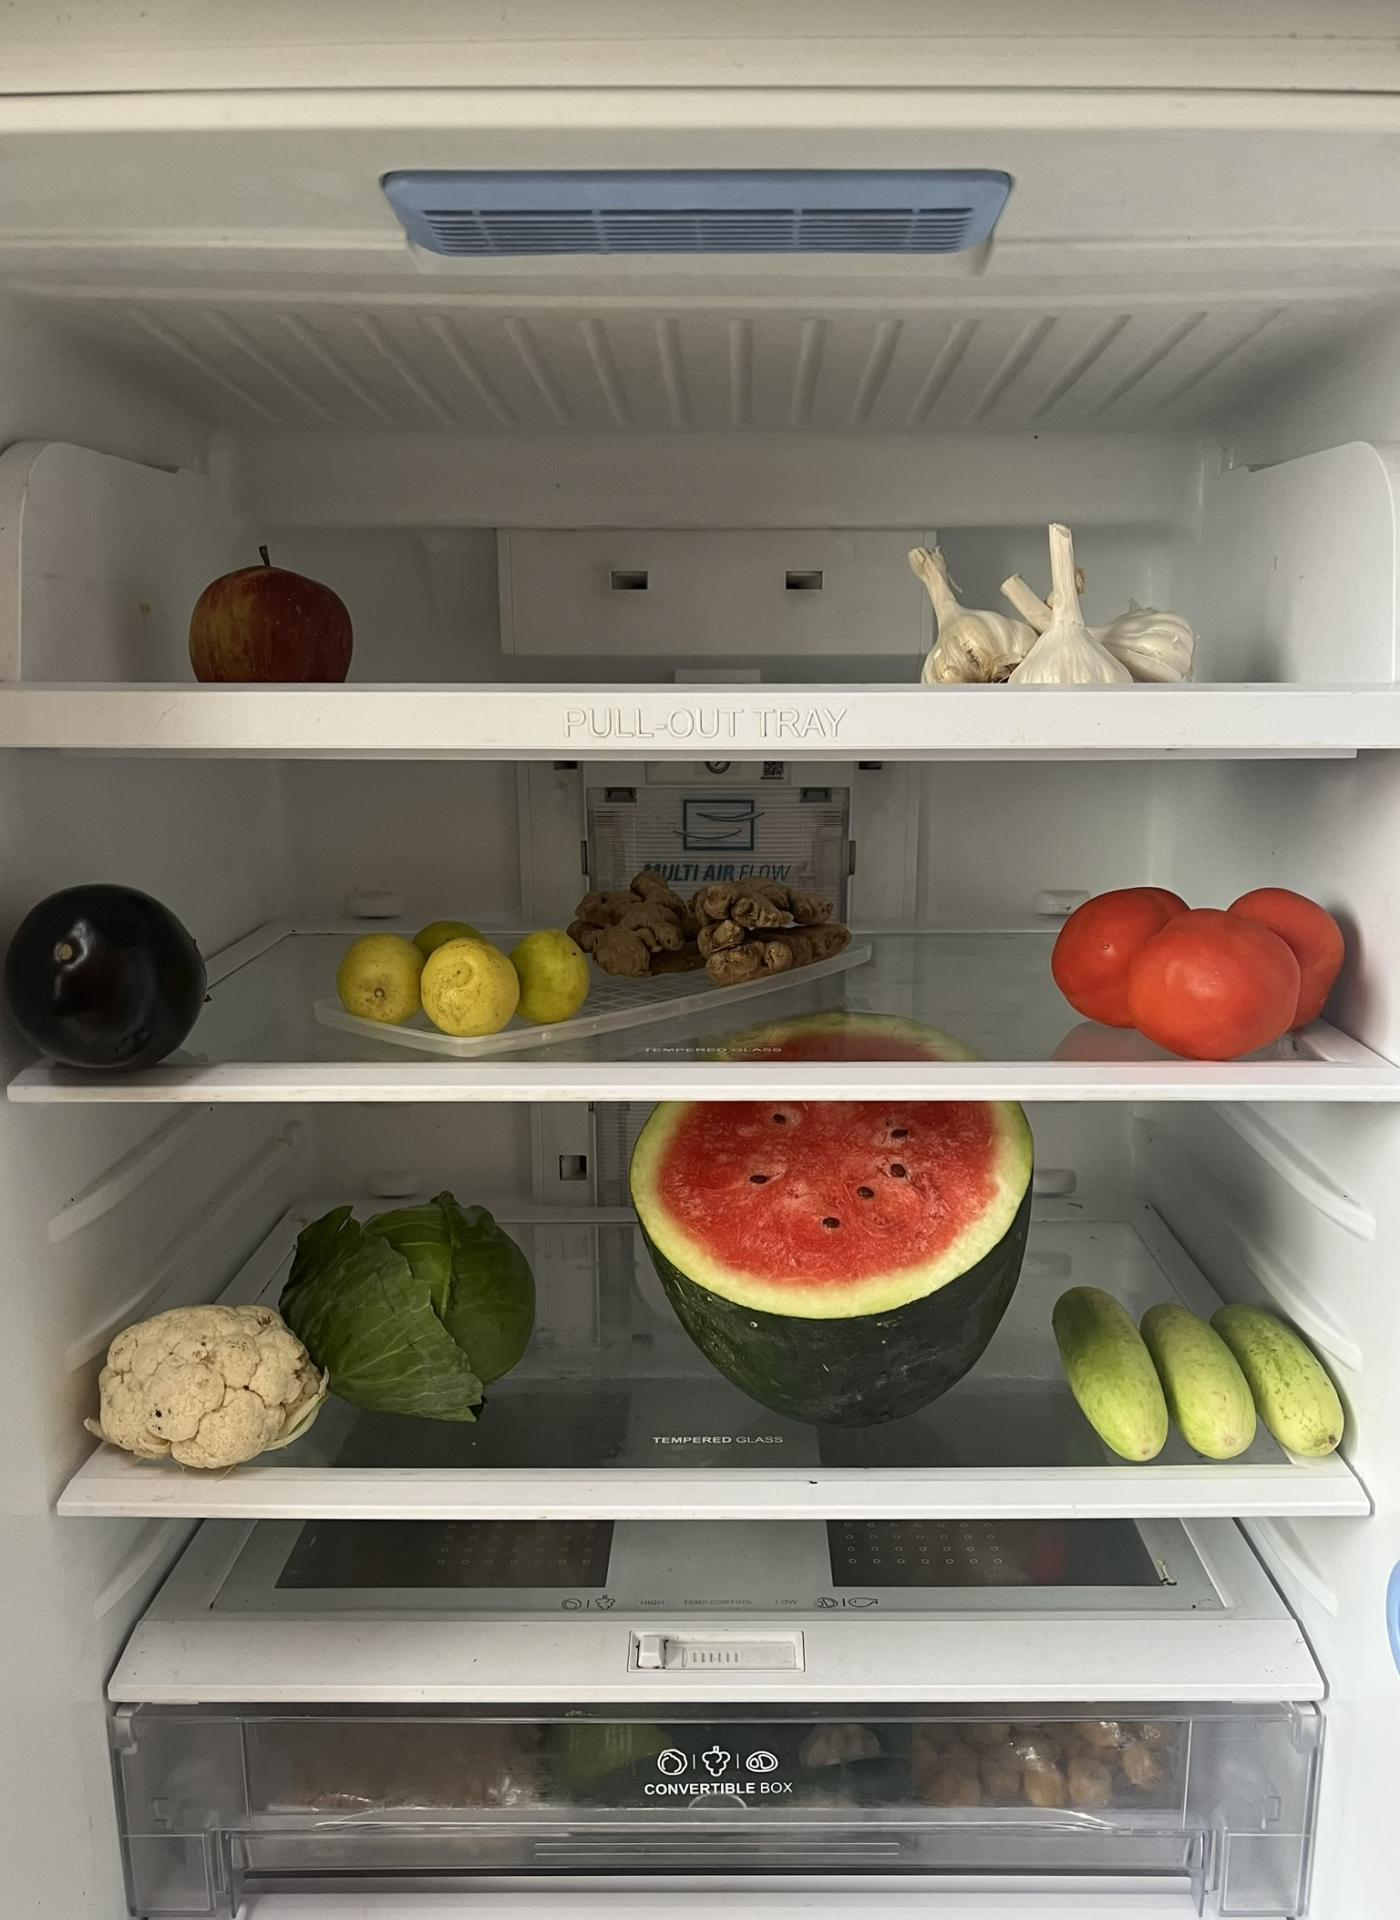apple: (188, 538, 364, 687)
cabbage: (282, 1190, 541, 1422)
cauliflower: (88, 1297, 334, 1459)
cucumber: (1054, 1275, 1349, 1465)
garlic: (896, 522, 1209, 692)
ginger: (571, 872, 863, 972)
lemon: (337, 912, 602, 1040)
tomato: (1051, 881, 1349, 1052)
watermelon: (641, 1012, 1039, 1428)
